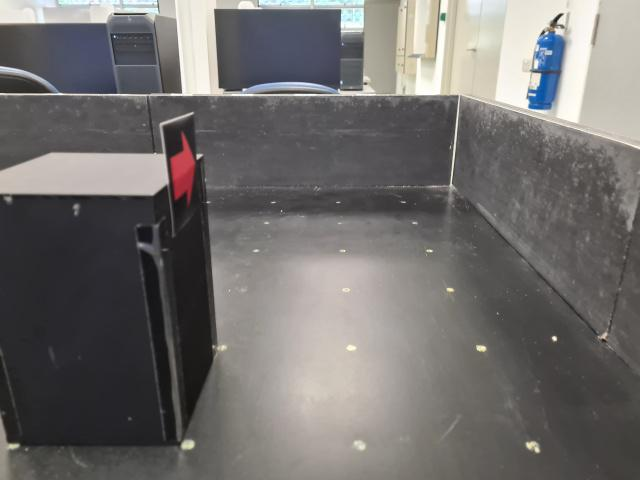left: (158, 111, 205, 237)
